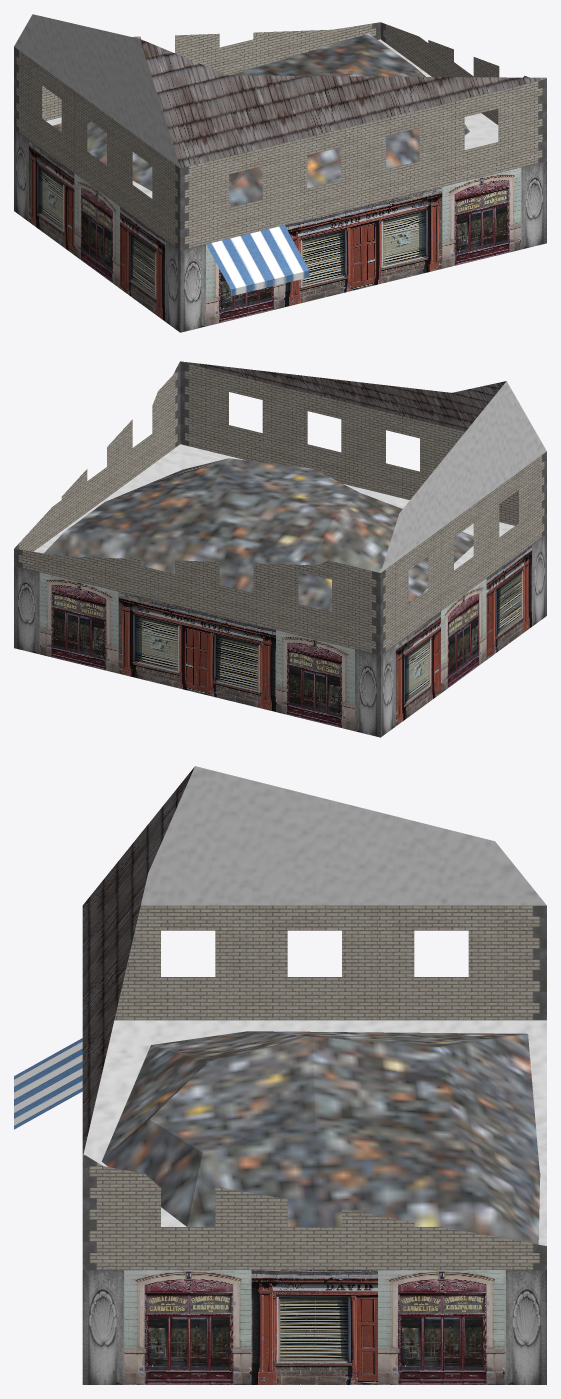
The model's file is House_001_destroyed_001.dae.
3 views of the same model, one above another, from view 1: azimuth 30°, elevation 25°; view 2: azimuth 150°, elevation 25°; view 3: azimuth 270°, elevation 25° (orthographic). The views are drawn at different scales.
Parts seen in each view (by area): view 1: House_001; view 2: House_001; view 3: House_001.
Boxes of the visible parts, box(x1,y1,x2,y2) form: House_001: box(14, 14, 546, 332); House_001: box(14, 361, 546, 737); House_001: box(14, 766, 546, 1384).
Size of the model in its own units: 112 by 101 by 77.16.
Materials: 1 (1 with a texture image).
